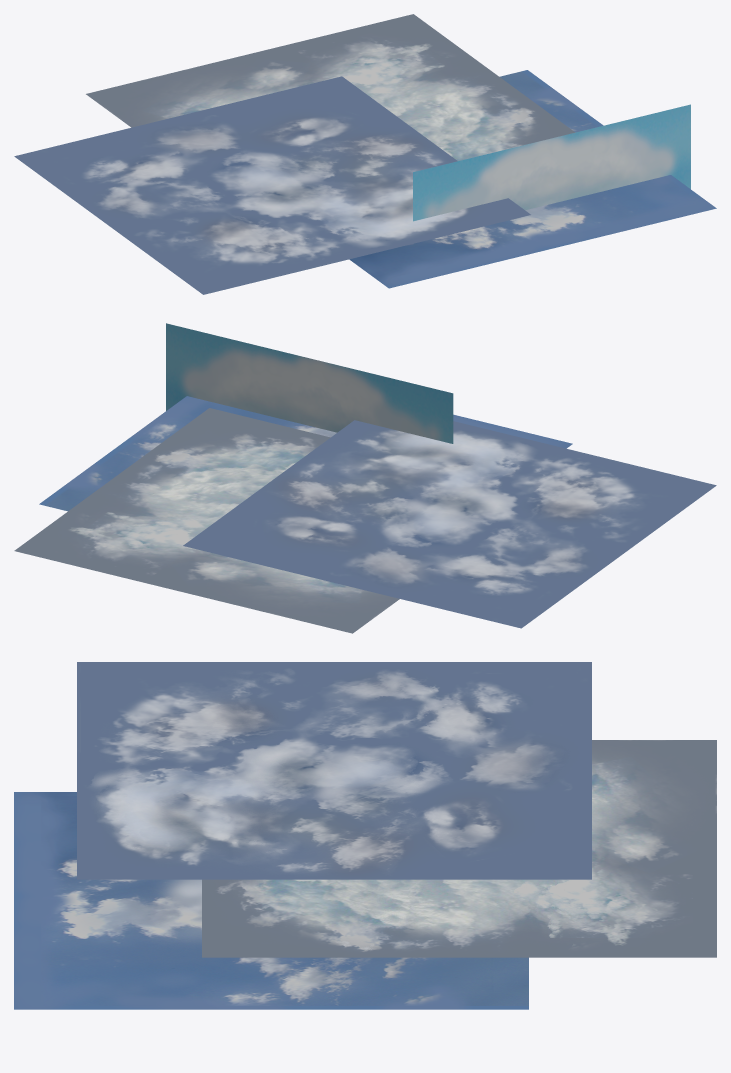
File: xwg_yun_001.FBX
3 views of the same model, one above another, from view 1: azimuth 30°, elevation 25°; view 2: azimuth 150°, elevation 25°; view 3: azimuth 270°, elevation 25° (orthographic). The views are drawn at different scales.
Visible parts, largest first — view 1: xwg_yun_002, xwg_yun_004, xwg_yun_003, xwg_yun_001; view 2: xwg_yun_002, xwg_yun_004, xwg_yun_003, xwg_yun_001; view 3: xwg_yun_002, xwg_yun_004, xwg_yun_001.
Boxes of the visible parts, x1,y1,x2,y2 form: xwg_yun_002: (14, 76, 530, 294); xwg_yun_004: (86, 14, 574, 160); xwg_yun_003: (413, 104, 690, 221); xwg_yun_001: (349, 70, 716, 288); xwg_yun_002: (183, 420, 716, 628); xwg_yun_004: (14, 408, 399, 633); xwg_yun_003: (166, 323, 453, 443); xwg_yun_001: (39, 396, 572, 511); xwg_yun_002: (77, 662, 591, 879); xwg_yun_004: (202, 740, 716, 957); xwg_yun_001: (14, 792, 528, 1009).
Size of the model in its own units: 3356 by 577 by 2943.
4 materials, 4 textured.
